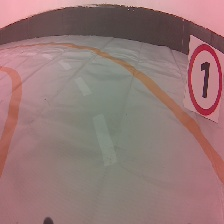limit: (182, 32, 224, 122)
